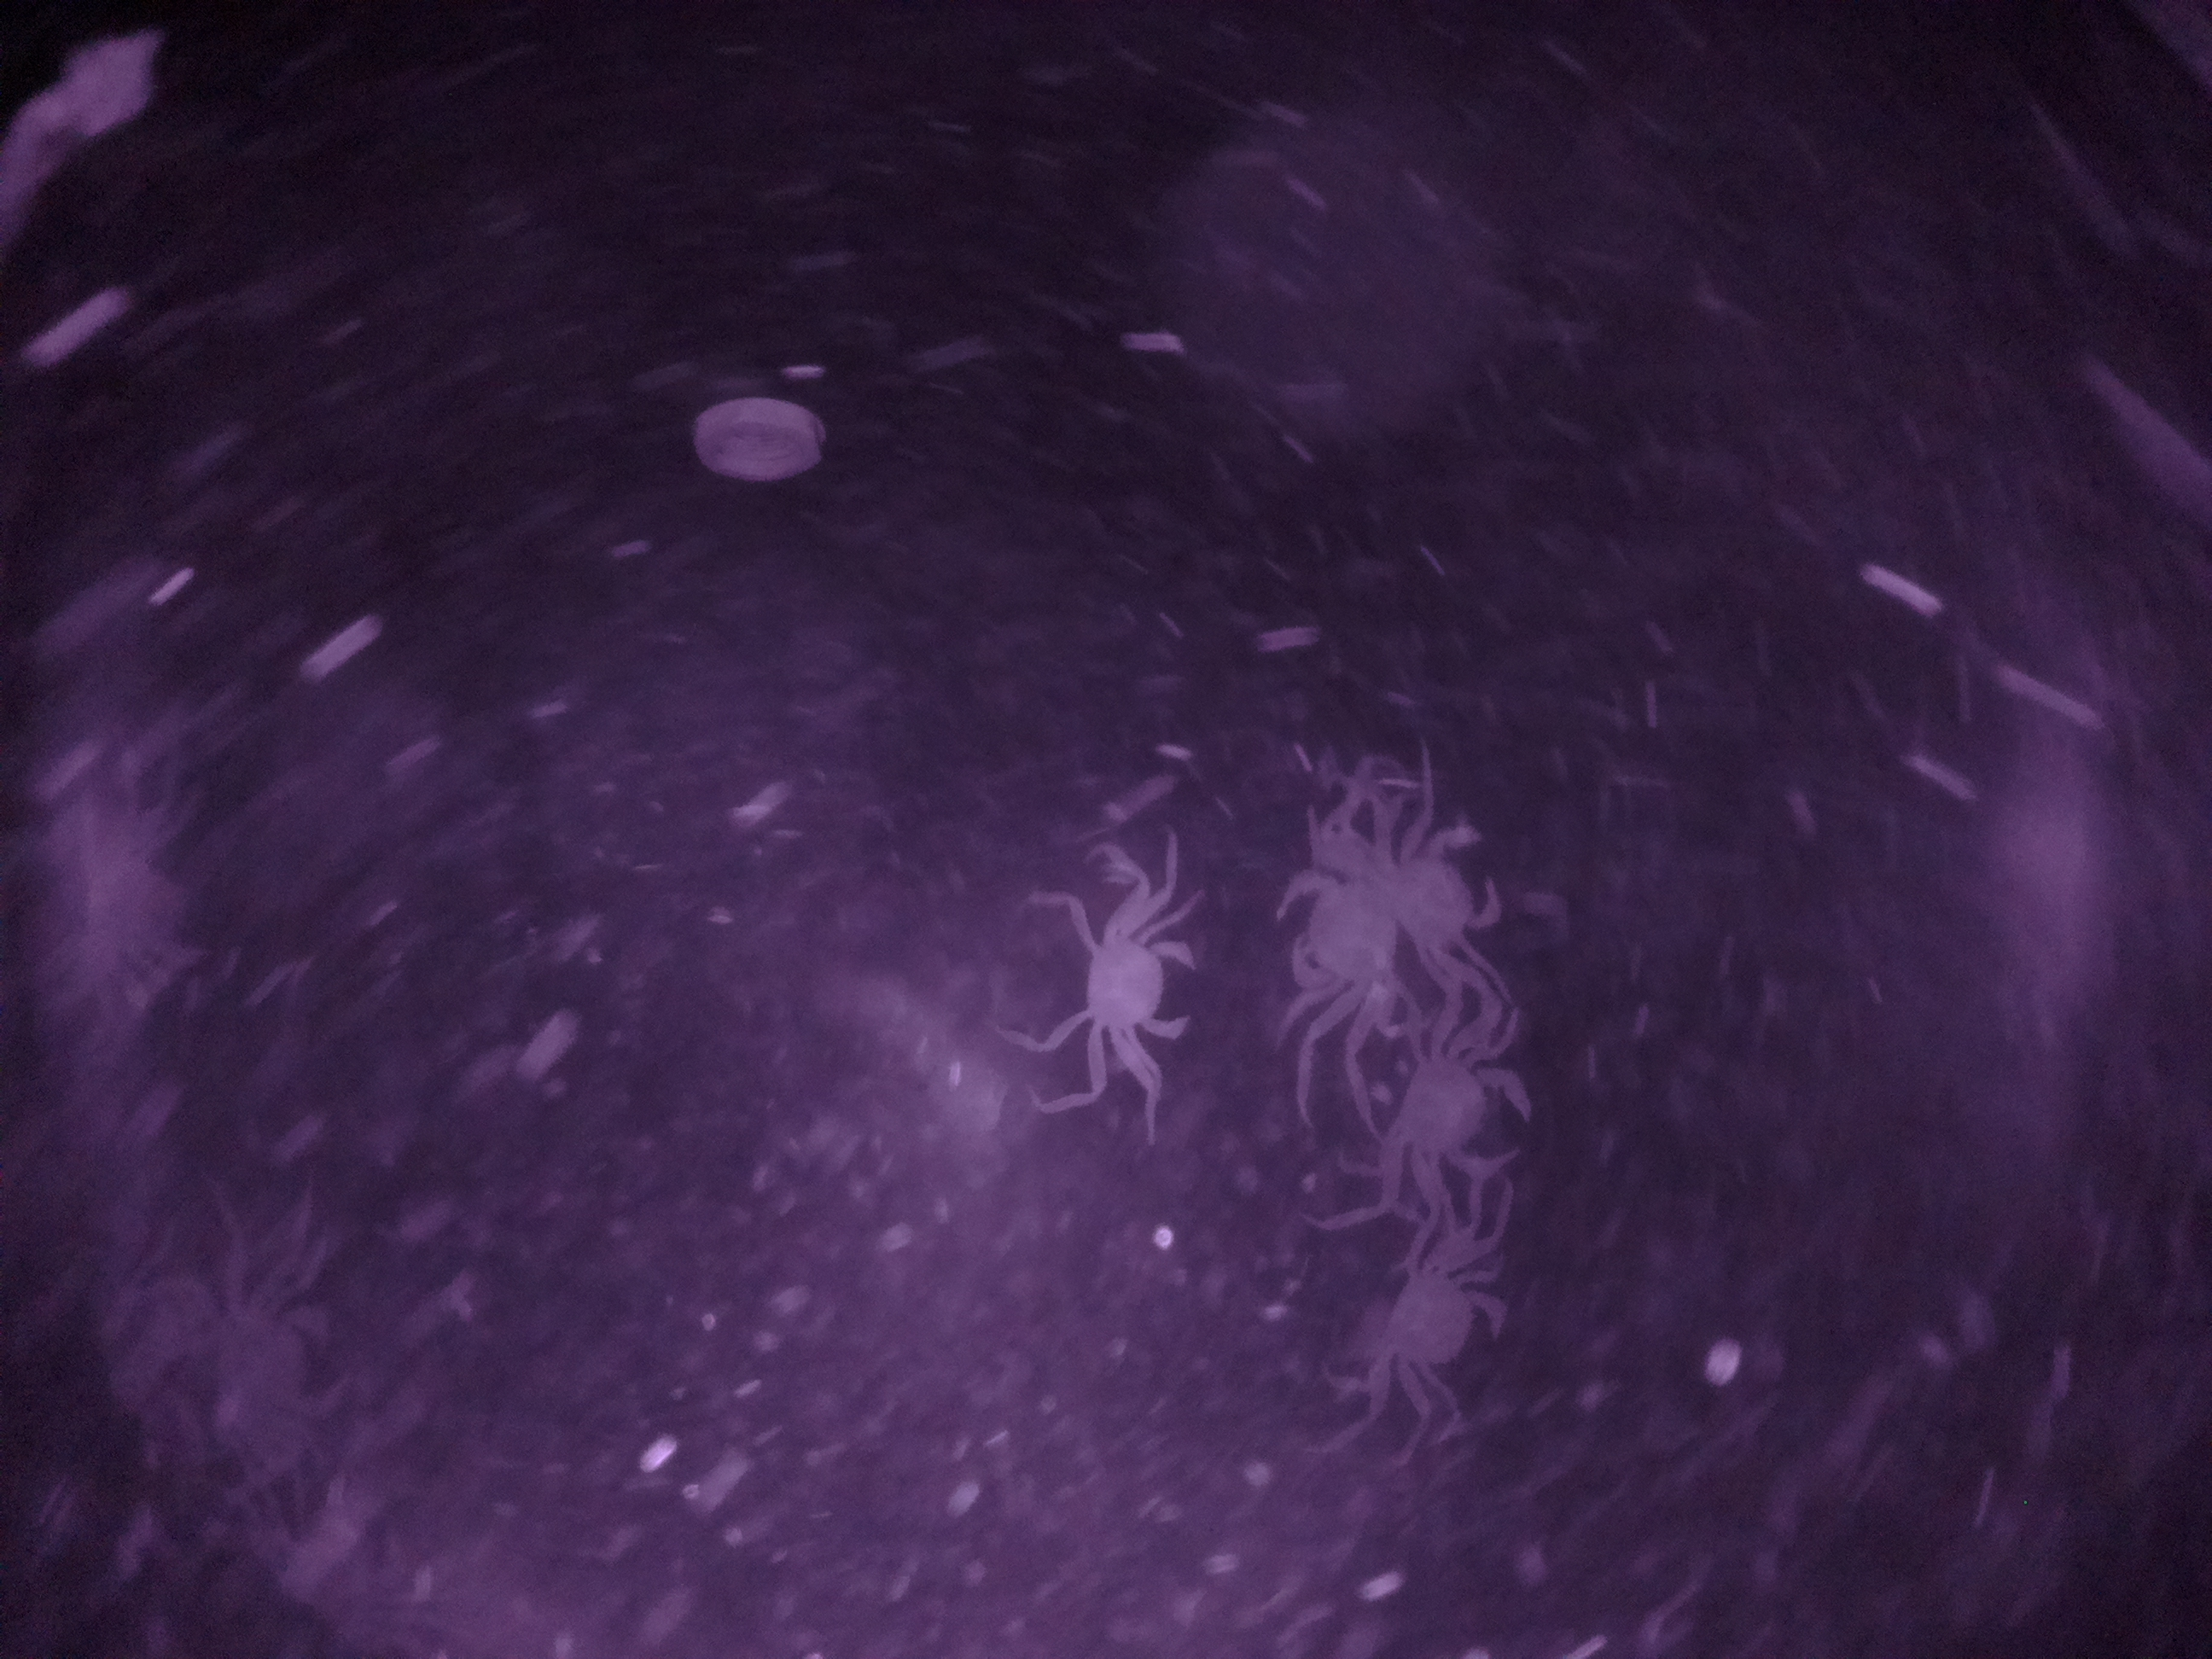Crab: (1355, 1229, 1529, 1443), (1352, 1014, 1557, 1190), (1054, 866, 1216, 1079)
